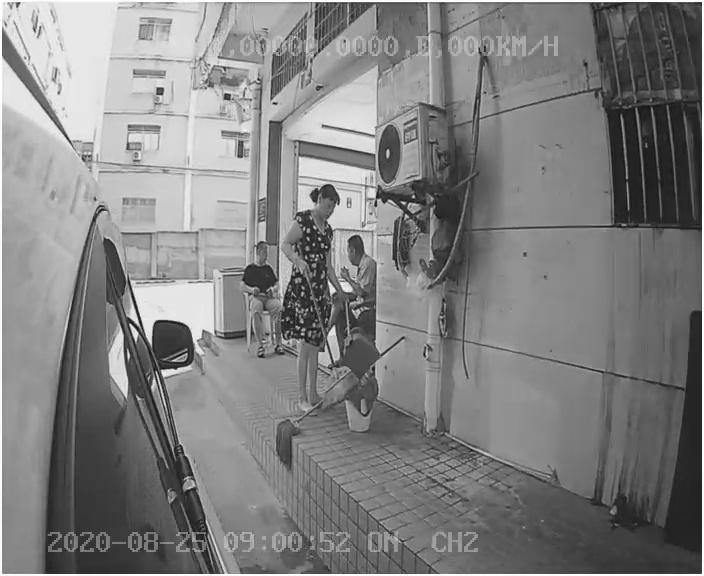person: (268, 187, 344, 391)
